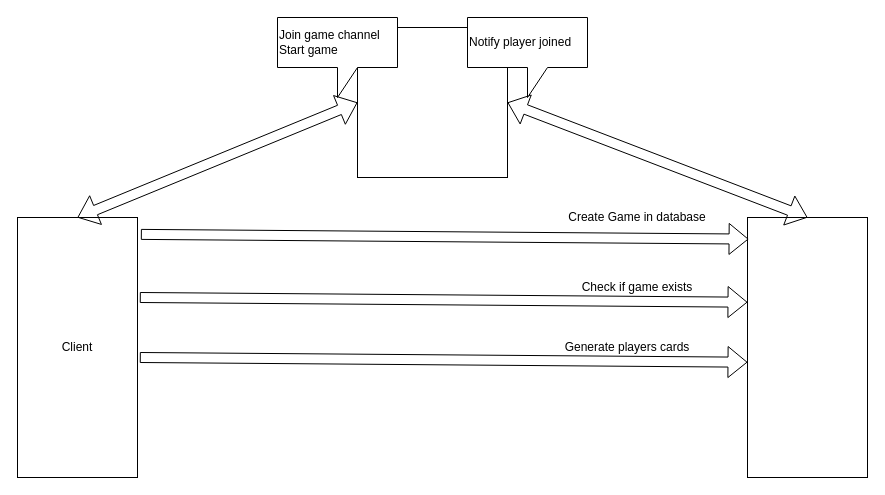
The diagram is 885 pixels wide and 495 high, and some of its shapes have lost their labels. Here are the shapes that lost their labels. From the top down, the box of each, then its label:
(356, 26, 508, 178): WebSockets
(746, 216, 868, 478): Server
